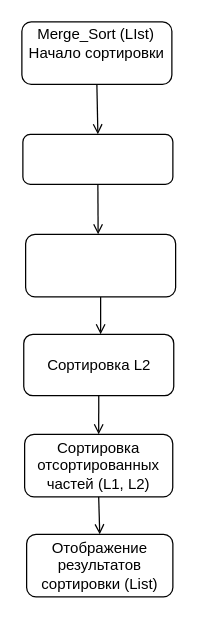
Some shapes in this 198 by 619 pixel diagram are drawn without their labels. The shapes that lost their labels are listed below. From the top down, each one's box as (x1, y1, x2, y2) in pixels, then its label:
(22, 133, 173, 184): Разделение массива на 2 части Split (List, L1, L2)
(24, 233, 176, 297): Сортировка L1
